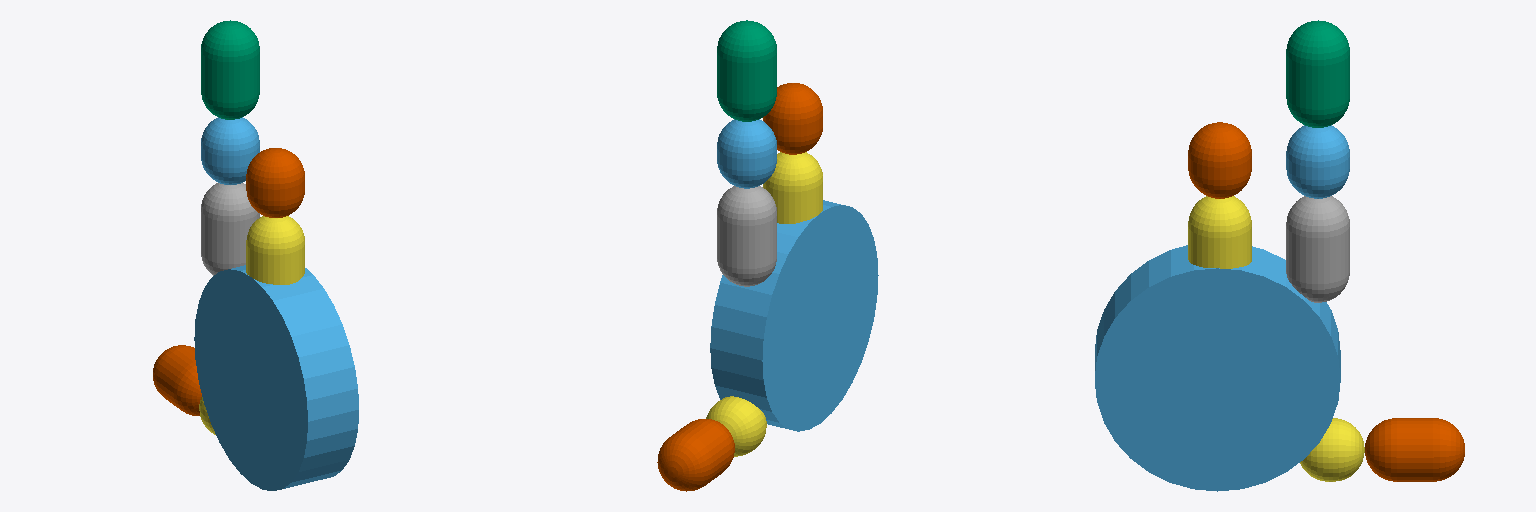
robot.urdf — DexterousHand:
<?xml version="1.0"?>
<robot name="DexterousHand">


    <link name="world"/>
    <joint name="world_to_palm" type="fixed">
        <parent link="world"/>
        <child link="palm"/>
        <origin xyz="0 0 0" rpy="0 0 0"/>
    </joint>
    <link name="palm">
        <inertial>
            <origin xyz="0 0 0.057" rpy="0 0 0"/>
            <mass value="0.30212892864"/>
            <inertia ixx="0.00049080844457568" ixy="0.0" ixz="0.0" iyy="0.00026746366246427523" iyz="0.0" izz="0.00026746366246427523"/>
        </inertial>
        <visual>
            <origin xyz="0 0 0.057" rpy="1.5708 0 1.5708"/>
            <geometry>
                <cylinder radius="0.057" length="0.0296"/>
            </geometry>
            <material name="default"/>
        </visual>
        <collision>
            <origin xyz="0 0 0.057" rpy="1.5708 0 1.5708"/>
            <geometry>
                <cylinder radius="0.057" length="0.0296"/>
            </geometry>
        </collision>
    </link>

    
    <joint name="thumb_joint1" type="revolute">
        <parent link="palm"/>
        <child link="thumb_base"/>
        <origin xyz="0.0029 0.0368 0.0157" rpy="-1.5708 -1.5708 0.0"/>
        <axis xyz="-1 0 0"/>
        <limit lower="-0.349" upper="2.094" effort="1.0" velocity="1.0"/>
    </joint>

    <link name="thumb_base"></link>

    <joint name="thumb_joint2" type="revolute">
        <parent link="thumb_base"/>
        <child link="thumb_proximal"/>
        <origin xyz="0.0 0.0 0.0" rpy="0.0 0.0 0.0"/>
        <axis xyz="0 0 1"/>
        <limit lower="-0.47" upper="2.443" effort="1.0" velocity="1.0"/>
    </joint>

    <link name="thumb_proximal">
        <inertial>
            <origin xyz="0 0 0.01565" rpy="0 0 0"/>
            <mass value="0.021538658803200002"/>
            <inertia ixx="2.9378910096388167e-06" ixy="0.0" ixz="0.0" 
            iyy="2.9378910096388167e-06" iyz="0.0" izz="2.358913912126464e-06"/>
        </inertial>
        <visual>
            <origin xyz="0 0 0.01565" rpy="0 0 0"/>
            <geometry>
                <cylinder radius="0.0148" length="0.0017000000000000001"/>
            </geometry>
            <material name="default"/>
        </visual>
        <visual>
            <origin xyz="0 0 0.0148" rpy="0 0 0"/>
            <geometry>
                <sphere radius="0.0148"/>
            </geometry>
            <material name="default"/>
        </visual>
        <visual>
            <origin xyz="0 0 0.0165" rpy="0 0 0"/>
            <geometry>
                <sphere radius="0.0148"/>
            </geometry>
            <material name="default"/>
        </visual>
        <collision>
            <origin xyz="0 0 0.01565" rpy="0 0 0"/>
            <geometry>
                <cylinder radius="0.0148" length="0.0017000000000000001"/>
            </geometry>
        </collision>
        <collision>
            <origin xyz="0 0 0.0148" rpy="0 0 0"/>
            <geometry>
                <sphere radius="0.0148"/>
            </geometry>
        </collision>
        <collision>
            <origin xyz="0 0 0.0165" rpy="0 0 0"/>
            <geometry>
                <sphere radius="0.0148"/>
            </geometry>
        </collision>
    </link>

    <joint name="thumb_joint3" type="revolute">
        <parent link="thumb_proximal"/>
        <child link="thumb_knuckle"/>
        <origin xyz="0.0 0.0 0.0313" rpy="0.0 0.0 0.0"/>
        <axis xyz="1 0 0"/>
        <limit lower="0.0" upper="0.0" effort="1.0" velocity="1.0"/>
    </joint>

    <link name="thumb_knuckle"></link>

    <joint name="thumb_joint4" type="revolute">
        <parent link="thumb_knuckle"/>
        <child link="thumb_middle"/>
        <origin xyz="0 0 0" rpy="0 0 0"/> 
        <axis xyz="0 1 0"/>
        <limit lower="-1.2" upper="1.9" effort="1.0" velocity="1.0"/>
    </joint>

    <link name="thumb_middle">
        <inertial>
            <origin xyz="0 0 0.0233" rpy="0 0 0"/>
            <mass value="0.032067140582400004"/>
            <inertia ixx="7.5589732685519385e-06" ixy="0.0" ixz="0.0" 
            iyy="7.5589732685519385e-06" iyz="0.0" izz="3.5119932365844485e-06"/>
        </inertial>
        <visual>
            <origin xyz="0 0 0.0233" rpy="0 0 0"/>
            <geometry>
                <cylinder radius="0.0148" length="0.017"/>
            </geometry>
            <material name="default"/>
        </visual>
        <visual>
            <origin xyz="0 0 0.0148" rpy="0 0 0"/>
            <geometry>
                <sphere radius="0.0148"/>
            </geometry>
            <material name="default"/>
        </visual>
        <visual>
            <origin xyz="0 0 0.0318" rpy="0 0 0"/>
            <geometry>
                <sphere radius="0.0148"/>
            </geometry>
            <material name="default"/>
        </visual>
        <collision>
            <origin xyz="0 0 0.0233" rpy="0 0 0"/>
            <geometry>
                <cylinder radius="0.0148" length="0.017"/>
            </geometry>
        </collision>
        <collision>
            <origin xyz="0 0 0.0148" rpy="0 0 0"/>
            <geometry>
                <sphere radius="0.0148"/>
            </geometry>
        </collision>
        <collision>
            <origin xyz="0 0 0.0318" rpy="0 0 0"/>
            <geometry>
                <sphere radius="0.0148"/>
            </geometry>
        </collision>
    </link>

    <joint name="thumb_joint5" type="revolute">
        <parent link="thumb_middle"/>
        <child link="thumb_distal"/>
        <origin xyz="0 0 0.0466" rpy="0 0 0"/> 
        <axis xyz="0 1 0"/>
        <limit lower="0.0" upper="0.0" effort="1.0" velocity="1.0"/>
    </joint>

    <link name="thumb_distal">
    </link>

    
    <joint name="index_joint1" type="revolute">
        <parent link="palm"/>
        <child link="index_proximal"/>
        <origin xyz="0.0 0.0465 0.091" rpy="0.0 0.0 0.0"/>
        <axis xyz="0 1 0"/>
        <limit lower="-0.314" upper="2.23" effort="1.0" velocity="1.0"/>
    </joint>

    <link name="index_proximal">
        <inertial>
            <origin xyz="0 0 0.02655" rpy="0 0 0"/>
            <mass value="0.036540024998400006"/>
            <inertia ixx="1.058665009272394e-05" ixy="0.0" ixz="0.0" 
            iyy="1.058665009272394e-05" iyz="0.0" izz="4.001863537824769e-06"/>
        </inertial>
        <visual>
            <origin xyz="0 0 0.02655" rpy="0 0 0"/>
            <geometry>
                <cylinder radius="0.0148" length="0.0235"/>
            </geometry>
            <material name="default"/>
        </visual>
        <visual>
            <origin xyz="0 0 0.0148" rpy="0 0 0"/>
            <geometry>
                <sphere radius="0.0148"/>
            </geometry>
            <material name="default"/>
        </visual>
        <visual>
            <origin xyz="0 0 0.0383" rpy="0 0 0"/>
            <geometry>
                <sphere radius="0.0148"/>
            </geometry>
            <material name="default"/>
        </visual>
        <collision>
            <origin xyz="0 0 0.02655" rpy="0 0 0"/>
            <geometry>
                <cylinder radius="0.0148" length="0.0235"/>
            </geometry>
        </collision>
        <collision>
            <origin xyz="0 0 0.0148" rpy="0 0 0"/>
            <geometry>
                <sphere radius="0.0148"/>
            </geometry>
        </collision>
        <collision>
            <origin xyz="0 0 0.0383" rpy="0 0 0"/>
            <geometry>
                <sphere radius="0.0148"/>
            </geometry>
        </collision>
    </link>

    <joint name="index_joint2" type="revolute">
        <parent link="index_proximal"/>
        <child link="index_dummy"/>
        <origin xyz="0.0 0.0 0.038" rpy="0.0 0.0 0.0"/>
        <axis xyz="1 0 0"/>
        <limit lower="-1.047" upper="1.047" effort="1.0" velocity="1.0"/>
    </joint>

    <link name="index_dummy"></link>

    <joint name="index_joint3" type="revolute">
        <parent link="index_dummy"/>
        <child link="index_middle"/>
        <origin xyz="0 0 0.015100000000000002" rpy="0 0 0"/>
        <axis xyz="0 1 0"/>
        <limit lower="-0.506" upper="1.885" effort="1.0" velocity="1.0"/>
    </joint>

    <link name="index_middle">
        <inertial>
            <origin xyz="0 0 0.01805" rpy="0 0 0"/>
            <mass value="0.0248417119104"/>
            <inertia ixx="4.058162759109537e-06" ixy="0.0" ixz="0.0" 
            iyy="4.058162759109537e-06" iyz="0.0" izz="2.7206642884270085e-06"/>
        </inertial>
        <visual>
            <origin xyz="0 0 0.01805" rpy="0 0 0"/>
            <geometry>
                <cylinder radius="0.0148" length="0.006499999999999999"/>
            </geometry>
            <material name="default"/>
        </visual>
        <visual>
            <origin xyz="0 0 0.0148" rpy="0 0 0"/>
            <geometry>
                <sphere radius="0.0148"/>
            </geometry>
            <material name="default"/>
        </visual>
        <visual>
            <origin xyz="0 0 0.0213" rpy="0 0 0"/>
            <geometry>
                <sphere radius="0.0148"/>
            </geometry>
            <material name="default"/>
        </visual>
        <collision>
            <origin xyz="0 0 0.01805" rpy="0 0 0"/>
            <geometry>
                <cylinder radius="0.0148" length="0.006499999999999999"/>
            </geometry>
        </collision>
        <collision>
            <origin xyz="0 0 0.0148" rpy="0 0 0"/>
            <geometry>
                <sphere radius="0.0148"/>
            </geometry>
        </collision>
        <collision>
            <origin xyz="0 0 0.0213" rpy="0 0 0"/>
            <geometry>
                <sphere radius="0.0148"/>
            </geometry>
        </collision>
    </link>

    <joint name="index_joint4" type="revolute">
        <parent link="index_middle"/>
        <child link="index_distal"/>
        <origin xyz="0 0 0.0361" rpy="0 0 0"/> 
        <axis xyz="0 1 0"/>
        <limit lower="-0.366" upper="2.042" effort="1.0" velocity="1.0"/>
    </joint>

    <link name="index_distal">
        <inertial>
            <origin xyz="0 0 0.026" rpy="0 0 0"/>
            <mass value="0.035783075328"/>
            <inertia ixx="1.002260084553728e-05" ixy="0.0" ixz="0.0" 
            iyy="1.002260084553728e-05" iyz="0.0" izz="3.91896240992256e-06"/>
        </inertial>
        <visual>
            <origin xyz="0 0 0.026" rpy="0 0 0"/>
            <geometry>
                <cylinder radius="0.0148" length="0.022399999999999996"/>
            </geometry>
            <material name="default"/>
        </visual>
        <visual>
            <origin xyz="0 0 0.0148" rpy="0 0 0"/>
            <geometry>
                <sphere radius="0.0148"/>
            </geometry>
            <material name="default"/>
        </visual>
        <visual>
            <origin xyz="0 0 0.0372" rpy="0 0 0"/>
            <geometry>
                <sphere radius="0.0148"/>
            </geometry>
            <material name="default"/>
        </visual>
        <collision>
            <origin xyz="0 0 0.026" rpy="0 0 0"/>
            <geometry>
                <cylinder radius="0.0148" length="0.022399999999999996"/>
            </geometry>
        </collision>
        <collision>
            <origin xyz="0 0 0.0148" rpy="0 0 0"/>
            <geometry>
                <sphere radius="0.0148"/>
            </geometry>
        </collision>
        <collision>
            <origin xyz="0 0 0.0372" rpy="0 0 0"/>
            <geometry>
                <sphere radius="0.0148"/>
            </geometry>
        </collision>
    </link>

    
    <joint name="middle_joint1" type="revolute">
        <parent link="palm"/>
        <child link="middle_proximal"/>
        <origin xyz="0.0 0.0011 0.091" rpy="0.0 0.0 0.0"/>
        <axis xyz="0 1 0"/>
        <limit lower="-0.314" upper="2.23" effort="1.0" velocity="1.0"/>
    </joint>

    <link name="middle_proximal">
        <inertial>
            <origin xyz="0 0 0.02655" rpy="0 0 0"/>
            <mass value="0.036540024998400006"/>
            <inertia ixx="1.058665009272394e-05" ixy="0.0" ixz="0.0" 
            iyy="1.058665009272394e-05" iyz="0.0" izz="4.001863537824769e-06"/>
        </inertial>
        <visual>
            <origin xyz="0 0 0.02655" rpy="0 0 0"/>
            <geometry>
                <cylinder radius="0.0148" length="0.0235"/>
            </geometry>
            <material name="default"/>
        </visual>
        <visual>
            <origin xyz="0 0 0.0148" rpy="0 0 0"/>
            <geometry>
                <sphere radius="0.0148"/>
            </geometry>
            <material name="default"/>
        </visual>
        <visual>
            <origin xyz="0 0 0.0383" rpy="0 0 0"/>
            <geometry>
                <sphere radius="0.0148"/>
            </geometry>
            <material name="default"/>
        </visual>
        <collision>
            <origin xyz="0 0 0.02655" rpy="0 0 0"/>
            <geometry>
                <cylinder radius="0.0148" length="0.0235"/>
            </geometry>
        </collision>
        <collision>
            <origin xyz="0 0 0.0148" rpy="0 0 0"/>
            <geometry>
                <sphere radius="0.0148"/>
            </geometry>
        </collision>
        <collision>
            <origin xyz="0 0 0.0383" rpy="0 0 0"/>
            <geometry>
                <sphere radius="0.0148"/>
            </geometry>
        </collision>
    </link>

    <joint name="middle_joint2" type="revolute">
        <parent link="middle_proximal"/>
        <child link="middle_dummy"/>
        <origin xyz="0.0 0.0 0.038" rpy="0.0 0.0 0.0"/>
        <axis xyz="1 0 0"/>
        <limit lower="-1.047" upper="1.047" effort="1.0" velocity="1.0"/>
    </joint>

    <link name="middle_dummy"></link>

    <joint name="middle_joint3" type="revolute">
        <parent link="middle_dummy"/>
        <child link="middle_middle"/>
        <origin xyz="0 0 0.015100000000000002" rpy="0 0 0"/>
        <axis xyz="0 1 0"/>
        <limit lower="-0.506" upper="1.885" effort="1.0" velocity="1.0"/>
    </joint>

    <link name="middle_middle">
        <inertial>
            <origin xyz="0 0 0.01805" rpy="0 0 0"/>
            <mass value="0.0248417119104"/>
            <inertia ixx="4.058162759109537e-06" ixy="0.0" ixz="0.0" 
            iyy="4.058162759109537e-06" iyz="0.0" izz="2.7206642884270085e-06"/>
        </inertial>
        <visual>
            <origin xyz="0 0 0.01805" rpy="0 0 0"/>
            <geometry>
                <cylinder radius="0.0148" length="0.006499999999999999"/>
            </geometry>
            <material name="default"/>
        </visual>
        <visual>
            <origin xyz="0 0 0.0148" rpy="0 0 0"/>
            <geometry>
                <sphere radius="0.0148"/>
            </geometry>
            <material name="default"/>
        </visual>
        <visual>
            <origin xyz="0 0 0.0213" rpy="0 0 0"/>
            <geometry>
                <sphere radius="0.0148"/>
            </geometry>
            <material name="default"/>
        </visual>
        <collision>
            <origin xyz="0 0 0.01805" rpy="0 0 0"/>
            <geometry>
                <cylinder radius="0.0148" length="0.006499999999999999"/>
            </geometry>
        </collision>
        <collision>
            <origin xyz="0 0 0.0148" rpy="0 0 0"/>
            <geometry>
                <sphere radius="0.0148"/>
            </geometry>
        </collision>
        <collision>
            <origin xyz="0 0 0.0213" rpy="0 0 0"/>
            <geometry>
                <sphere radius="0.0148"/>
            </geometry>
        </collision>
    </link>

    <joint name="middle_joint4" type="revolute">
        <parent link="middle_middle"/>
        <child link="middle_distal"/>
        <origin xyz="0 0 0.0361" rpy="0 0 0"/> 
        <axis xyz="0 1 0"/>
        <limit lower="0.0" upper="0.0" effort="1.0" velocity="1.0"/>
    </joint>

    <link name="middle_distal">
    </link>

    
    <joint name="ring_joint1" type="revolute">
        <parent link="palm"/>
        <child link="ring_proximal"/>
        <origin xyz="0.0 0.0 0.0" rpy="0.0 0.0 0.0"/>
        <axis xyz="1 0 0"/>
        <limit lower="0.0" upper="0.0" effort="1.0" velocity="1.0"/>
    </joint>

    <link name="ring_proximal">
    </link>

    <joint name="ring_joint2" type="revolute">
        <parent link="ring_proximal"/>
        <child link="ring_dummy"/>
        <origin xyz="0.0 0.0 0.0" rpy="0.0 0.0 0.0"/>
        <axis xyz="0 1 0"/>
        <limit lower="0.0" upper="0.0" effort="1.0" velocity="1.0"/>
    </joint>

    <link name="ring_dummy"></link>

    <joint name="ring_joint3" type="revolute">
        <parent link="ring_dummy"/>
        <child link="ring_middle"/>
        <origin xyz="0 0 0" rpy="0 0 0"/>
        <axis xyz="0 1 0"/>
        <limit lower="0.0" upper="0.0" effort="1.0" velocity="1.0"/>
    </joint>

    <link name="ring_middle">
    </link>

    <joint name="ring_joint4" type="revolute">
        <parent link="ring_middle"/>
        <child link="ring_distal"/>
        <origin xyz="0 0 0" rpy="0 0 0"/> 
        <axis xyz="0 1 0"/>
        <limit lower="0.0" upper="0.0" effort="1.0" velocity="1.0"/>
    </joint>

    <link name="ring_distal">
    </link>

    
    <joint name="little_joint0" type="revolute">
        <parent link="palm"/>
        <child link="little_base"/>
        <origin xyz="0.0 0.0 0.0" rpy="0.0 0.0 0.0"/>
        <axis xyz="0 1 0"/>
        <limit lower="0.0" upper="0.0" effort="1.0" velocity="1.0"/>
    </joint>

    <link name="little_base"></link>

    <joint name="little_joint1" type="revolute">
        <parent link="little_base"/>
        <child link="little_proximal"/>
        <origin xyz="0.0 0.0 0.0" rpy="-0.0 -0.0 -0.0"/>
        <axis xyz="1 0 0"/>
        <limit lower="0.0" upper="0.0" effort="1.0" velocity="1.0"/>
    </joint>

    <link name="little_proximal">
    </link>

    <joint name="little_joint2" type="revolute">
        <parent link="little_proximal"/>
        <child link="little_dummy"/>
        <origin xyz="0.0 0.0 0.0" rpy="0.0 0.0 0.0"/>
        <axis xyz="0 1 0"/>
        <limit lower="0.0" upper="0.0" effort="1.0" velocity="1.0"/>
    </joint>

    <link name="little_dummy"></link>

    <joint name="little_joint3" type="revolute">
        <parent link="little_dummy"/>
        <child link="little_middle"/>
        <origin xyz="0 0 0" rpy="0 0 0"/>
        <axis xyz="0 1 0"/>
        <limit lower="0.0" upper="0.0" effort="1.0" velocity="1.0"/>
    </joint>

    <link name="little_middle">
    </link>

    <joint name="little_joint4" type="revolute">
        <parent link="little_middle"/>
        <child link="little_distal"/>
        <origin xyz="0 0 0" rpy="0 0 0"/>
        <axis xyz="0 1 0"/>
        <limit lower="0.0" upper="0.0" effort="1.0" velocity="1.0"/>
    </joint>

    <link name="little_distal">
    </link>

</robot>

--- Facts derived from the render (not from the file) ---
Views: 3 orthographic renders of the robot side by side, from view 1: azimuth 30°, elevation 25°; view 2: azimuth 150°, elevation 25°; view 3: azimuth 270°, elevation 25°.
Robot: DexterousHand — 24 links, 23 joints (22 revolute, 1 fixed); root link world; default pose: all joints at 0.
Links seen in each view (by area): view 1: palm, index_distal, index_proximal, middle_proximal, middle_middle, index_middle, thumb_middle; view 2: palm, index_proximal, index_distal, thumb_middle, index_middle, middle_proximal, middle_middle, thumb_proximal; view 3: palm, index_distal, index_proximal, thumb_middle, middle_proximal, middle_middle, index_middle, thumb_proximal.
Boxes of the visible links, left/top/right/bottom form: palm: left=194, top=265, right=358, bottom=490; index_distal: left=201, top=20, right=259, bottom=119; index_proximal: left=201, top=183, right=259, bottom=275; middle_proximal: left=246, top=216, right=304, bottom=284; middle_middle: left=246, top=148, right=304, bottom=217; index_middle: left=201, top=117, right=259, bottom=184; thumb_middle: left=153, top=345, right=201, bottom=415; palm: left=710, top=200, right=878, bottom=431; index_proximal: left=717, top=186, right=776, bottom=286; index_distal: left=717, top=20, right=776, bottom=121; thumb_middle: left=657, top=419, right=734, bottom=491; index_middle: left=717, top=119, right=776, bottom=188; middle_proximal: left=763, top=152, right=822, bottom=223; middle_middle: left=763, top=83, right=822, bottom=154; thumb_proximal: left=706, top=396, right=766, bottom=456; palm: left=1095, top=245, right=1340, bottom=491; index_distal: left=1286, top=20, right=1349, bottom=127; index_proximal: left=1286, top=196, right=1349, bottom=302; thumb_middle: left=1365, top=418, right=1464, bottom=481; middle_proximal: left=1188, top=196, right=1251, bottom=268; middle_middle: left=1188, top=122, right=1251, bottom=198; index_middle: left=1286, top=125, right=1349, bottom=198; thumb_proximal: left=1300, top=418, right=1364, bottom=481.
Size in the robot's own frame: 0.0325 by 0.1717 by 0.2322 metres.
Geometry: primitives only (box / cylinder / sphere), no mesh files.
